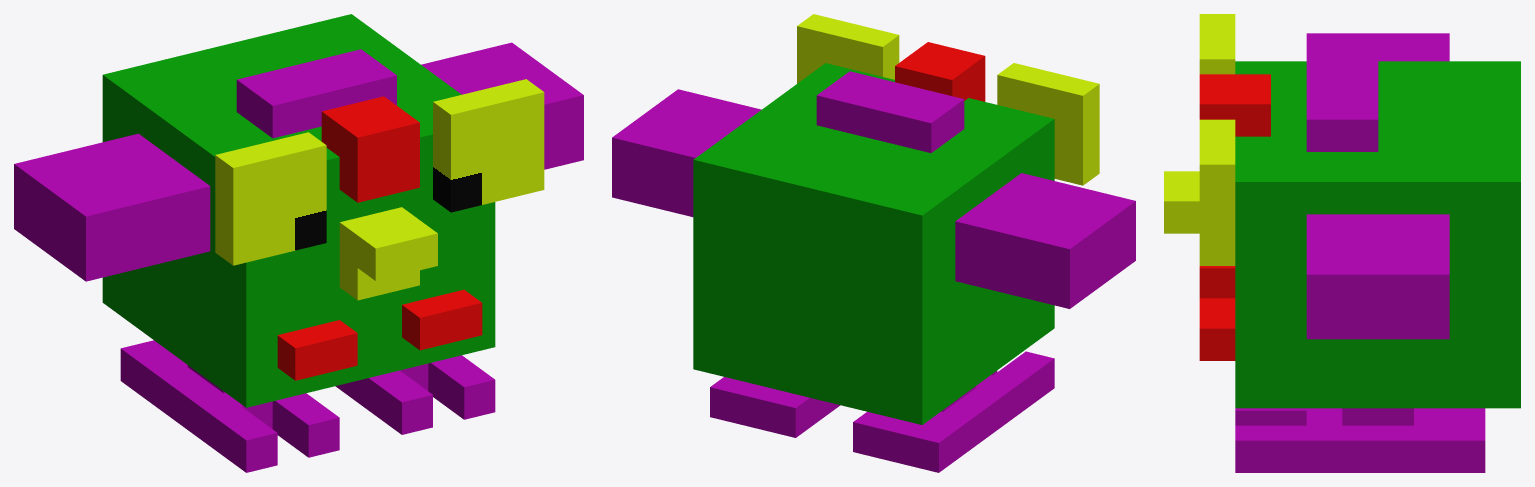
File: Ralix.fbx
3 renders of one model, left to right at view 1: azimuth 30°, elevation 25°; view 2: azimuth 150°, elevation 25°; view 3: azimuth 270°, elevation 25°, orthographic. The views are drawn at different scales.
Parts seen in each view (by area): view 1: Main, RightWing, LeftWing; view 2: Main, RightWing, LeftWing; view 3: Main, LeftWing, RightWing.
Boxes of the visible parts, left/top/right/bottom form: Main: left=102, top=14, right=544, bottom=472; RightWing: left=14, top=133, right=210, bottom=281; LeftWing: left=421, top=42, right=583, bottom=169; Main: left=693, top=14, right=1099, bottom=472; RightWing: left=955, top=173, right=1135, bottom=308; LeftWing: left=612, top=89, right=761, bottom=216; Main: left=1164, top=14, right=1520, bottom=472; LeftWing: left=1306, top=214, right=1449, bottom=339; RightWing: left=1306, top=33, right=1449, bottom=61.
Size of the model in its own units: 16 by 10 by 10.
1 material, 1 textured.
